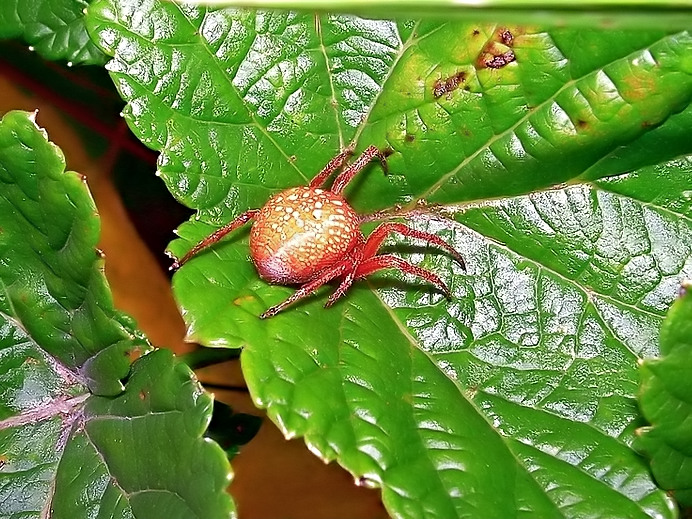spider: (157, 128, 467, 337)
